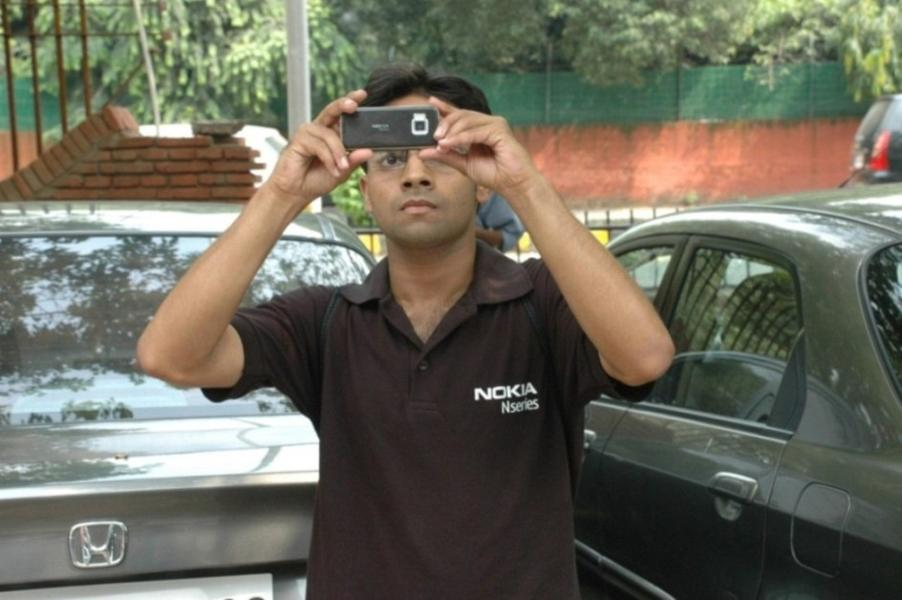person: (135, 65, 675, 600)
